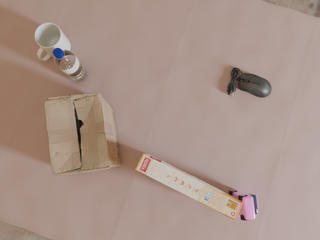bottle: (53, 48, 87, 82)
box: (135, 154, 243, 220), (44, 92, 121, 175)
cup: (35, 23, 71, 61)
mouse: (227, 68, 271, 97)
toy_car: (229, 191, 259, 220)
